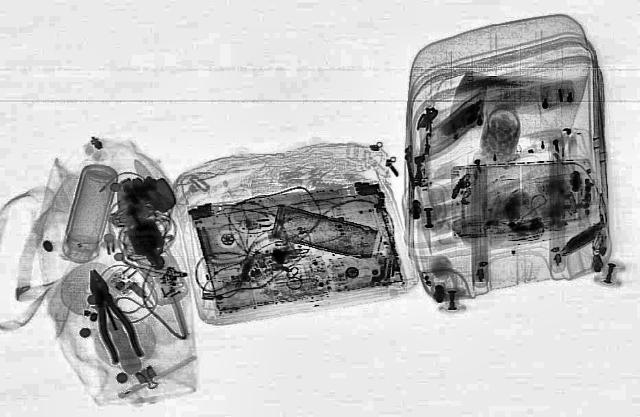Pliers: (75, 268, 145, 362)
